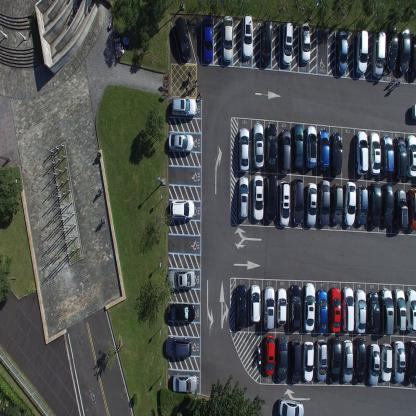car: (174, 14, 191, 62), (372, 30, 387, 78), (380, 287, 394, 336), (341, 284, 355, 332), (265, 173, 278, 223), (328, 336, 342, 382), (354, 129, 368, 174), (291, 177, 304, 225), (392, 340, 406, 384), (356, 29, 369, 76), (393, 137, 407, 180), (394, 189, 408, 232), (392, 288, 406, 331), (368, 182, 381, 228), (266, 123, 278, 172), (201, 15, 213, 64), (368, 131, 381, 176), (381, 182, 394, 227), (279, 180, 291, 228), (252, 174, 264, 222), (331, 131, 344, 175), (318, 128, 331, 172), (305, 124, 318, 168), (354, 289, 367, 333), (168, 130, 194, 152), (166, 336, 192, 358), (276, 336, 288, 383), (387, 25, 399, 72), (168, 268, 196, 288), (344, 180, 356, 226), (329, 286, 341, 332), (316, 288, 328, 334), (354, 337, 366, 383), (167, 303, 196, 322), (170, 96, 196, 117), (238, 127, 250, 172), (253, 121, 264, 170), (222, 14, 233, 63), (304, 283, 315, 332), (381, 135, 394, 176), (293, 122, 304, 170), (242, 12, 253, 60), (336, 30, 348, 74), (319, 179, 330, 227), (305, 182, 317, 226), (342, 339, 354, 383), (368, 342, 380, 386), (290, 283, 301, 331), (235, 284, 247, 328), (290, 339, 302, 383), (170, 198, 195, 219), (172, 372, 197, 393), (280, 128, 291, 175), (238, 175, 249, 221), (368, 292, 380, 334), (302, 340, 314, 382), (405, 134, 416, 179), (278, 396, 304, 415), (380, 341, 392, 382), (282, 22, 293, 66), (264, 286, 275, 330), (316, 338, 327, 382), (400, 27, 410, 75), (332, 182, 343, 225), (262, 18, 272, 65), (300, 22, 311, 64), (356, 185, 367, 226), (406, 287, 416, 332), (406, 339, 416, 384), (265, 334, 275, 376), (406, 187, 415, 232), (250, 284, 260, 324), (277, 287, 287, 325), (410, 33, 416, 81), (410, 102, 415, 124)
